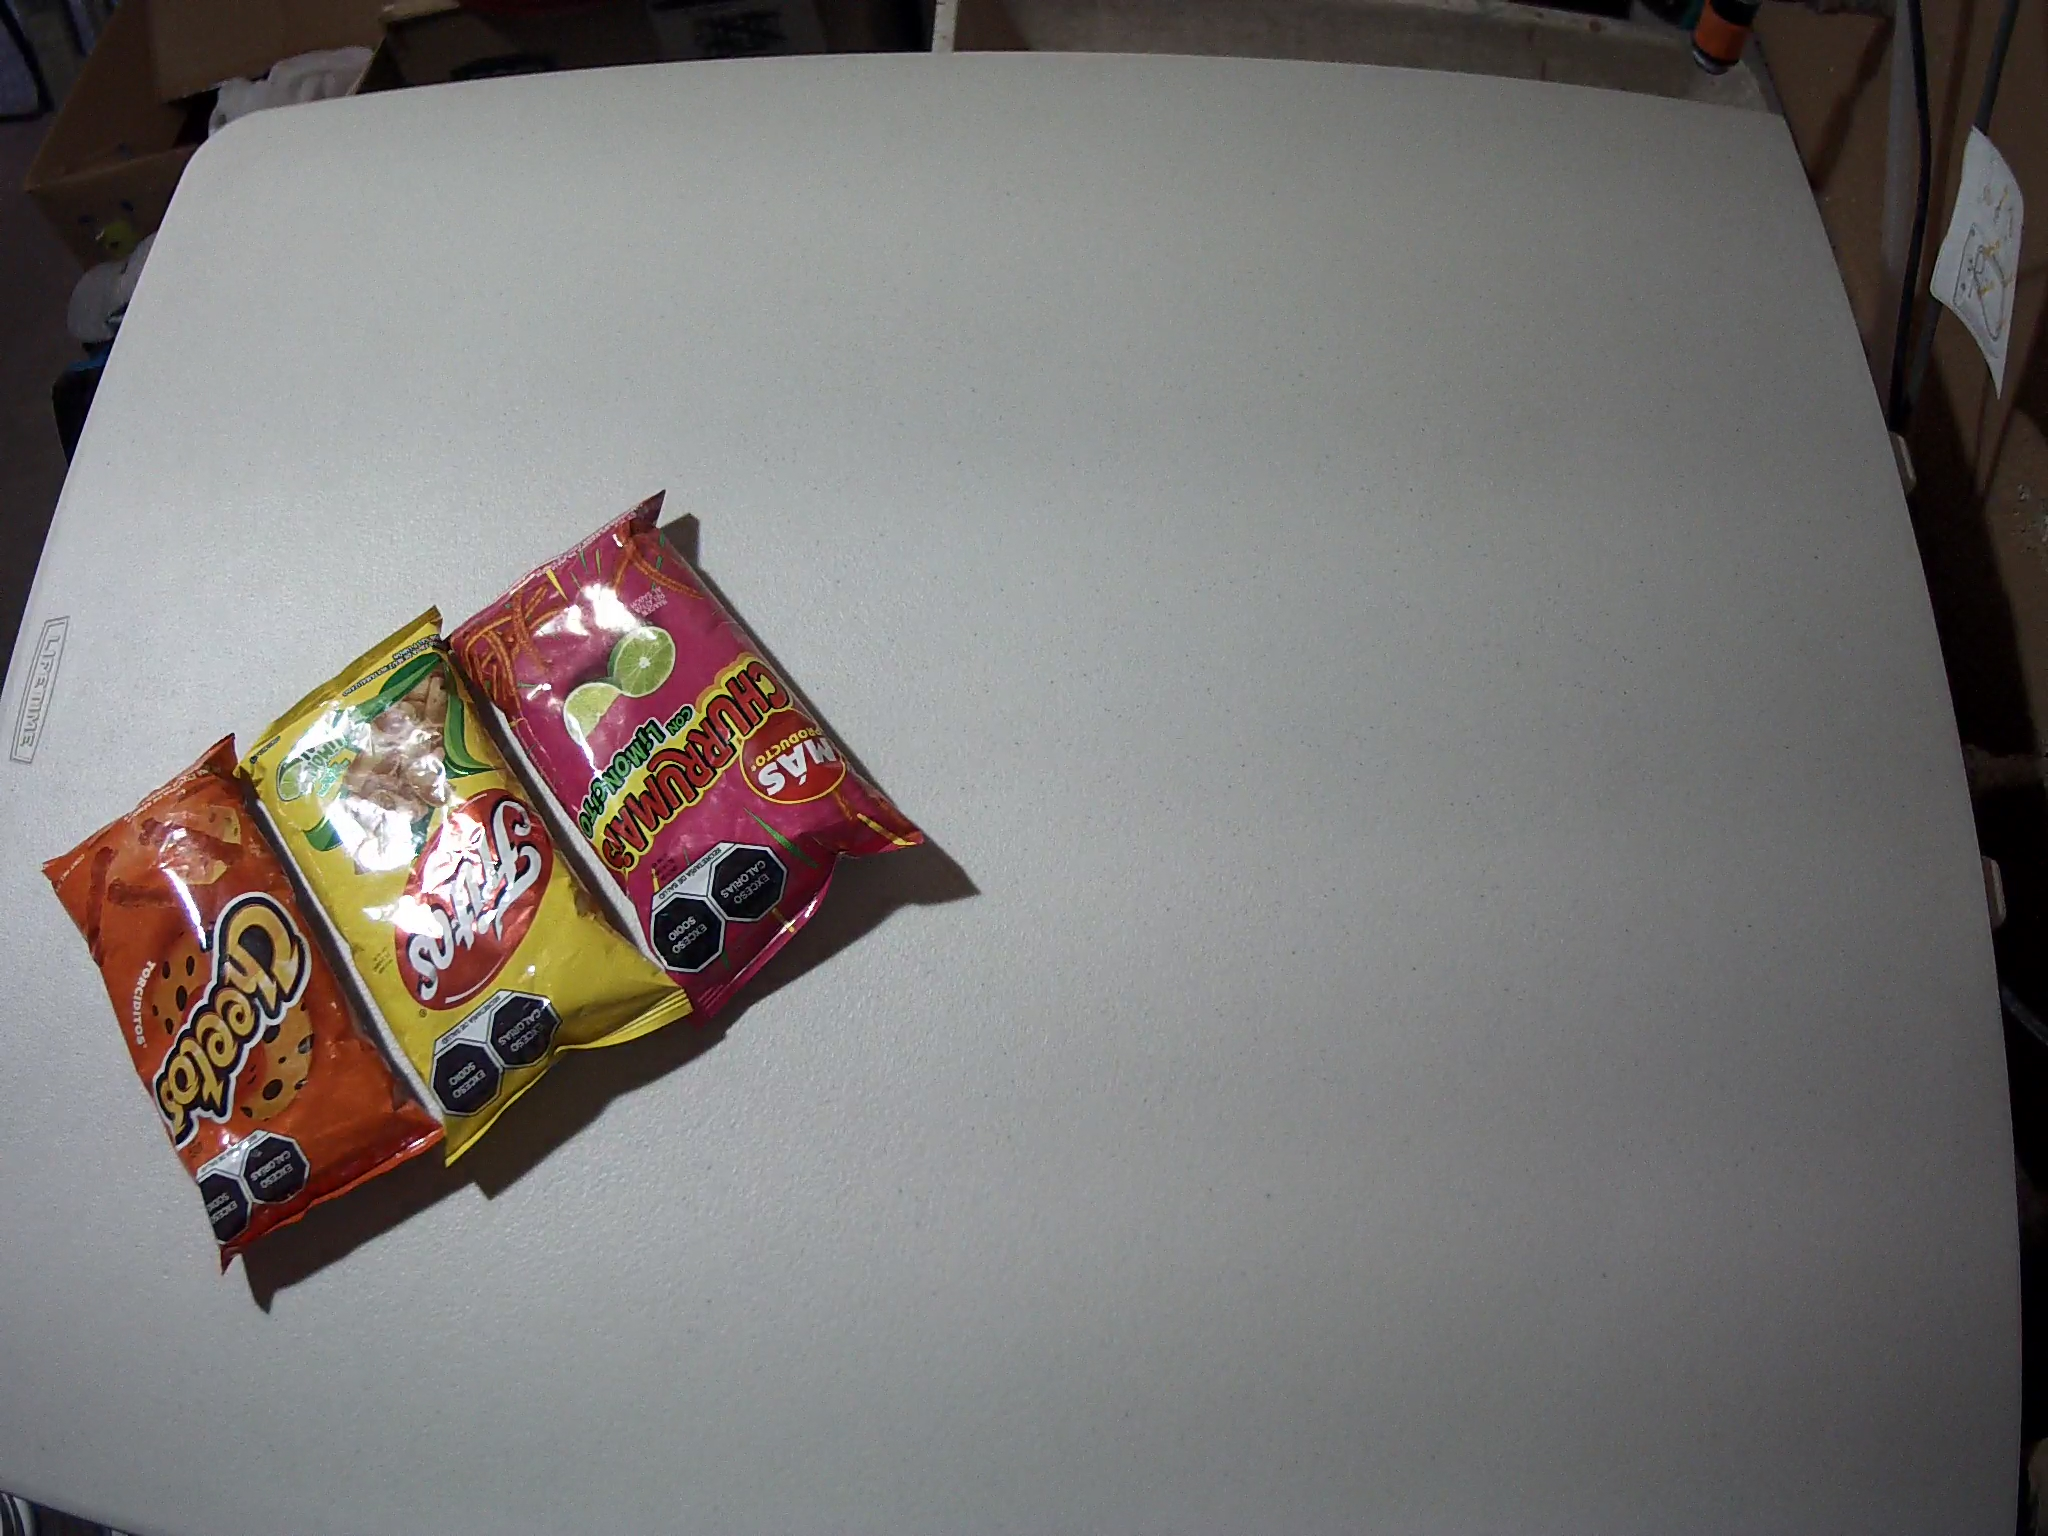CheetosTorciditos_55_F: (39, 733, 453, 1279)
Churrumais_70_F: (448, 494, 927, 1034)
FritosSalLimon_65_F: (227, 603, 698, 1168)
